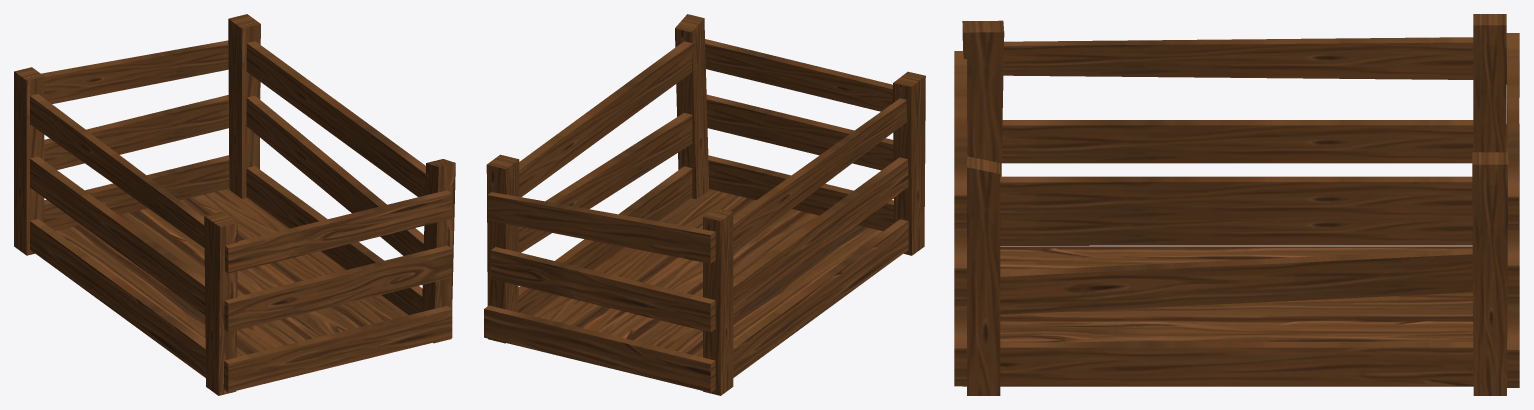
File: WoodenTray.fbx
3 views of the same model, side by side, from view 1: azimuth 30°, elevation 25°; view 2: azimuth 150°, elevation 25°; view 3: azimuth 270°, elevation 25° (orthographic). The views are drawn at different scales.
Parts seen in each view (by area): view 1: WoodenTray.001; view 2: WoodenTray.001; view 3: WoodenTray.001.
Boxes of the visible parts, x1,y1,x2,y2 form: WoodenTray.001: (14,14,455,395); WoodenTray.001: (484,14,925,395); WoodenTray.001: (954,14,1519,395).
Bounding box in the file's own units: 0.3971 × 0.2796 × 0.6191.
1 material, 1 textured.
